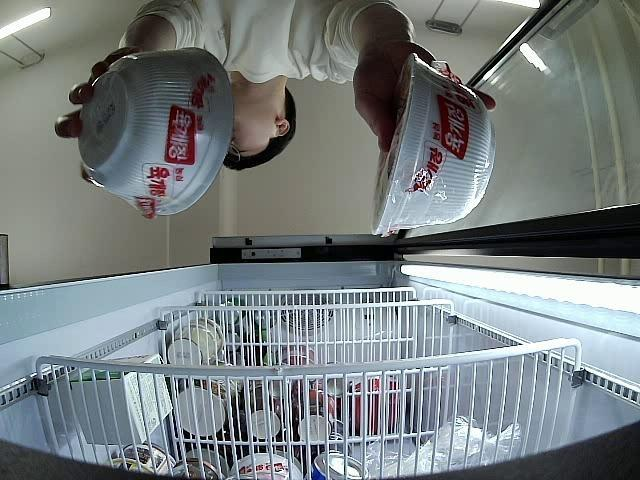09_yukGaeJang: (82, 48, 234, 221), (370, 52, 496, 238)
